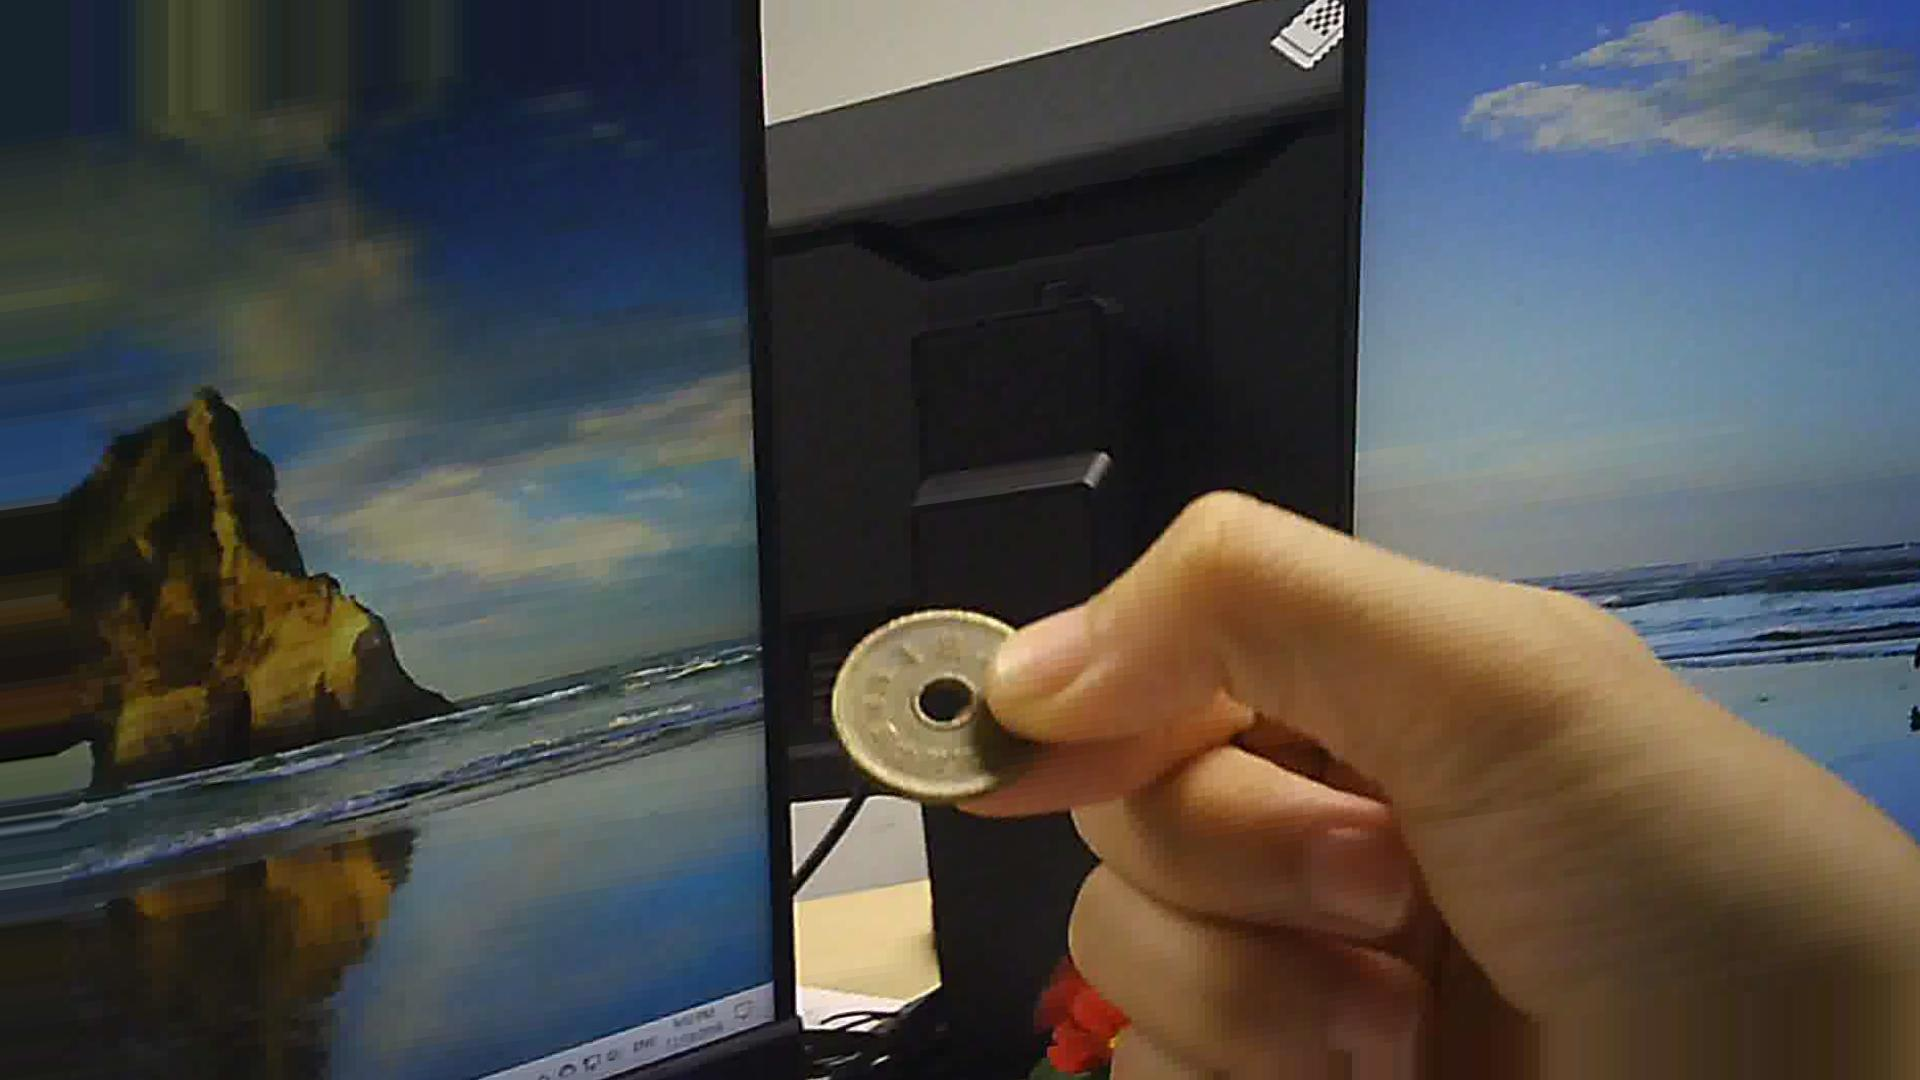5 Yen: (829, 603, 1054, 791)
